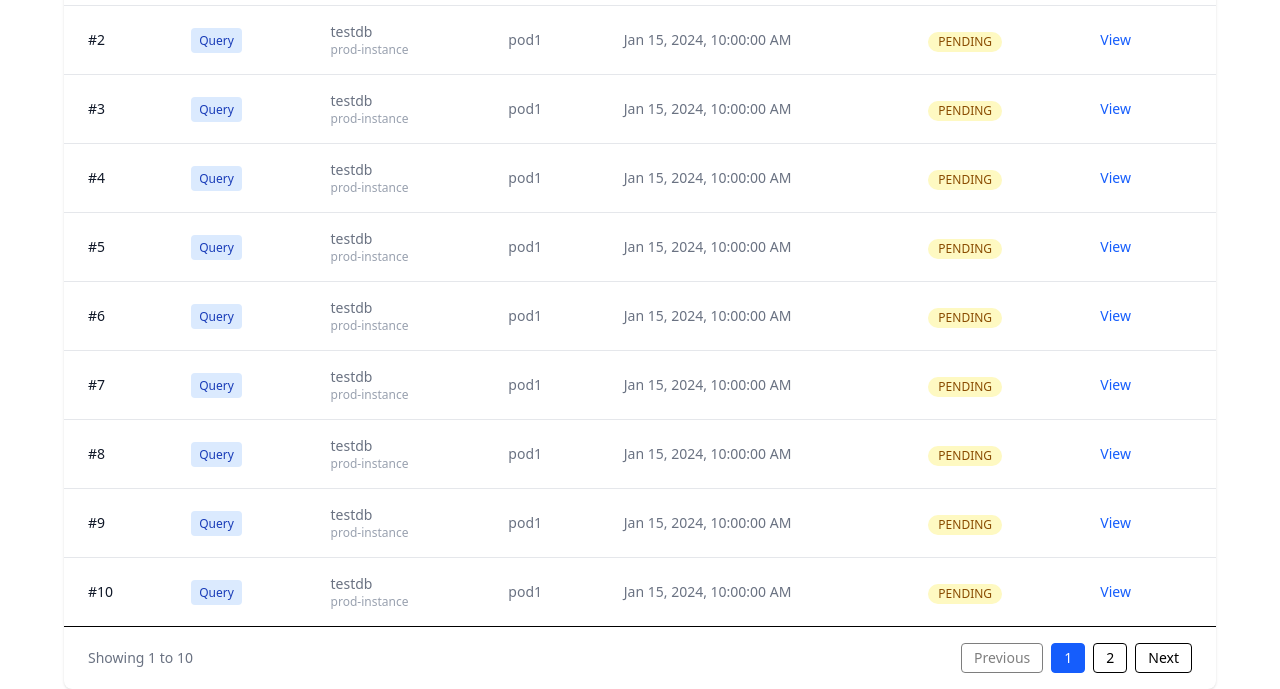
MySubmissions - Branch Coverage Tests › should handle fetchRequests with data.requests length less than pageSize
(page scrolled)
# Go to page 2
Click the button "Next" at (1164, 658), box x1=1135 y1=643 x2=1192 y2=673
(page scrolled)
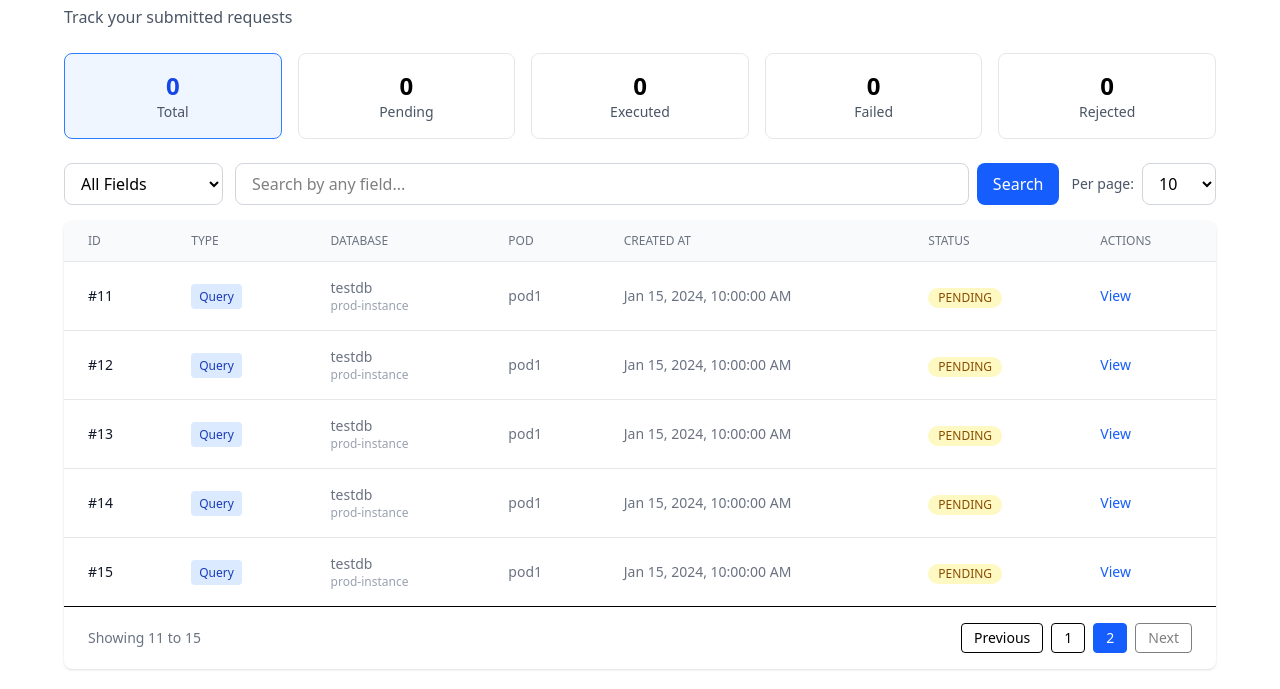
Expected: the text "#11" is shown, x1=64 y1=262 x2=167 y2=330
